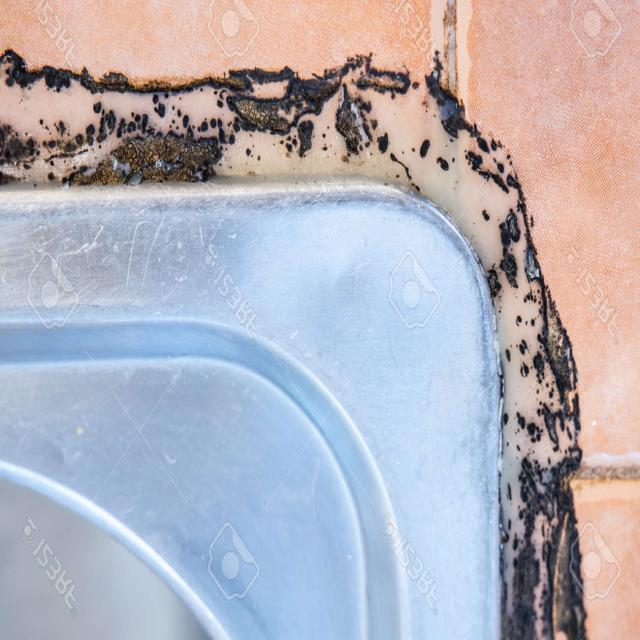leak: (0, 40, 590, 639)
